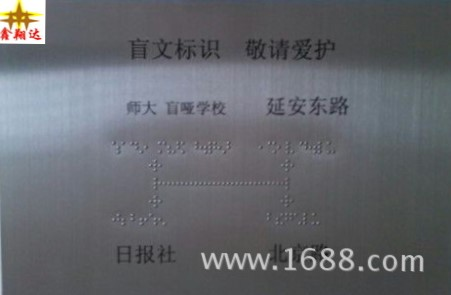Braille: (157, 212, 167, 228), (129, 140, 139, 156), (166, 141, 177, 155), (257, 139, 267, 154), (285, 140, 295, 155), (308, 140, 318, 155), (139, 212, 149, 227), (203, 140, 213, 155), (212, 140, 222, 155), (267, 139, 276, 155), (140, 140, 149, 156), (299, 141, 309, 155), (326, 140, 336, 154), (284, 212, 294, 226), (293, 212, 303, 226), (176, 141, 186, 155), (148, 212, 157, 227), (111, 140, 120, 155), (120, 140, 129, 155), (194, 140, 203, 155), (222, 140, 231, 155), (311, 212, 321, 225), (317, 140, 326, 154), (303, 212, 312, 226), (112, 213, 121, 227), (157, 141, 166, 155), (277, 139, 285, 154), (275, 212, 284, 225), (130, 213, 139, 226), (266, 212, 275, 224), (121, 213, 129, 226)
